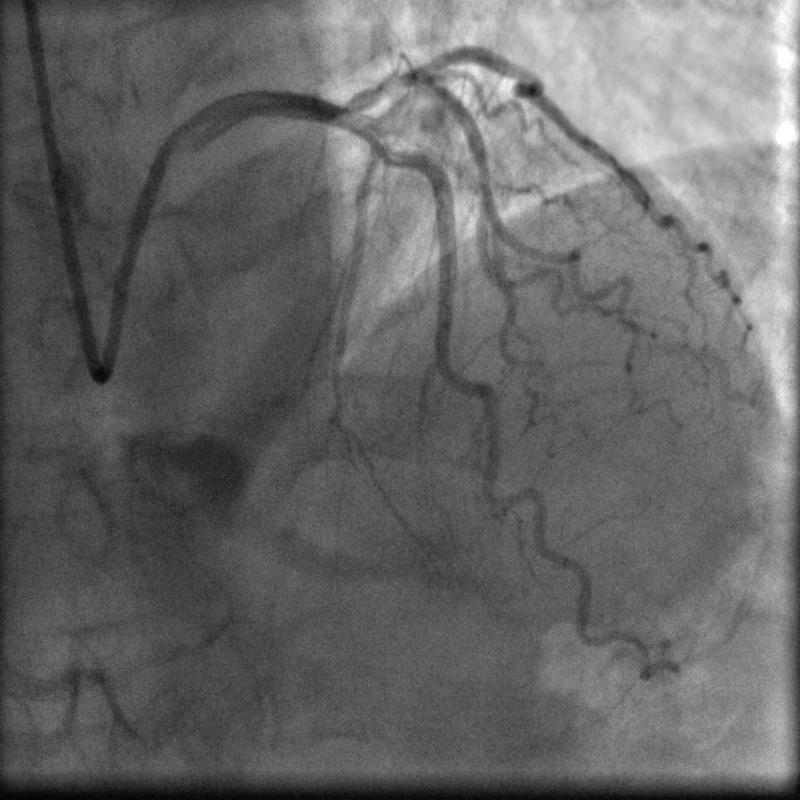Stenosis: (330, 73, 393, 116)
